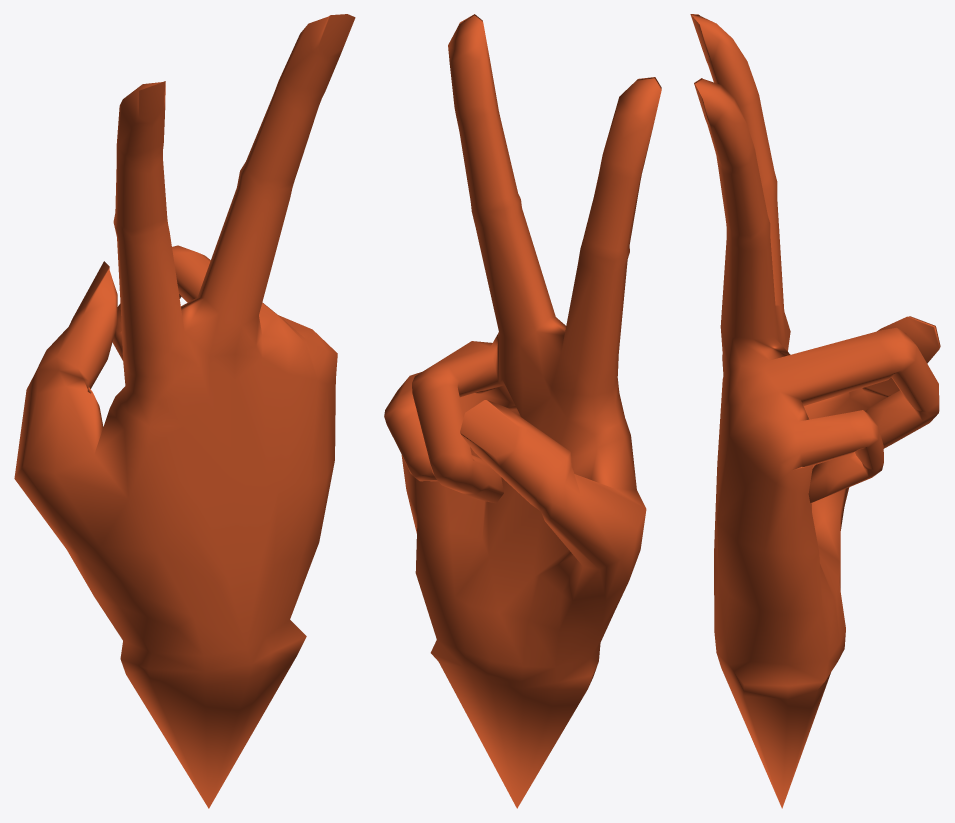
Rendered from Hand_choki_B.obj.
3 views of the same model, side by side, from view 1: azimuth 30°, elevation 25°; view 2: azimuth 150°, elevation 25°; view 3: azimuth 270°, elevation 25° (orthographic). The views are drawn at different scales.
Parts seen in each view (by area): view 1: Hand_choki_B_MDL; view 2: Hand_choki_B_MDL; view 3: Hand_choki_B_MDL.
Boxes of the visible parts, x1,y1,x2,y2 form: Hand_choki_B_MDL: (14,14,355,808); Hand_choki_B_MDL: (384,14,661,808); Hand_choki_B_MDL: (690,14,940,808).
Size of the model in its own units: 7.57 by 20.38 by 6.01.
1 material, 1 textured.
